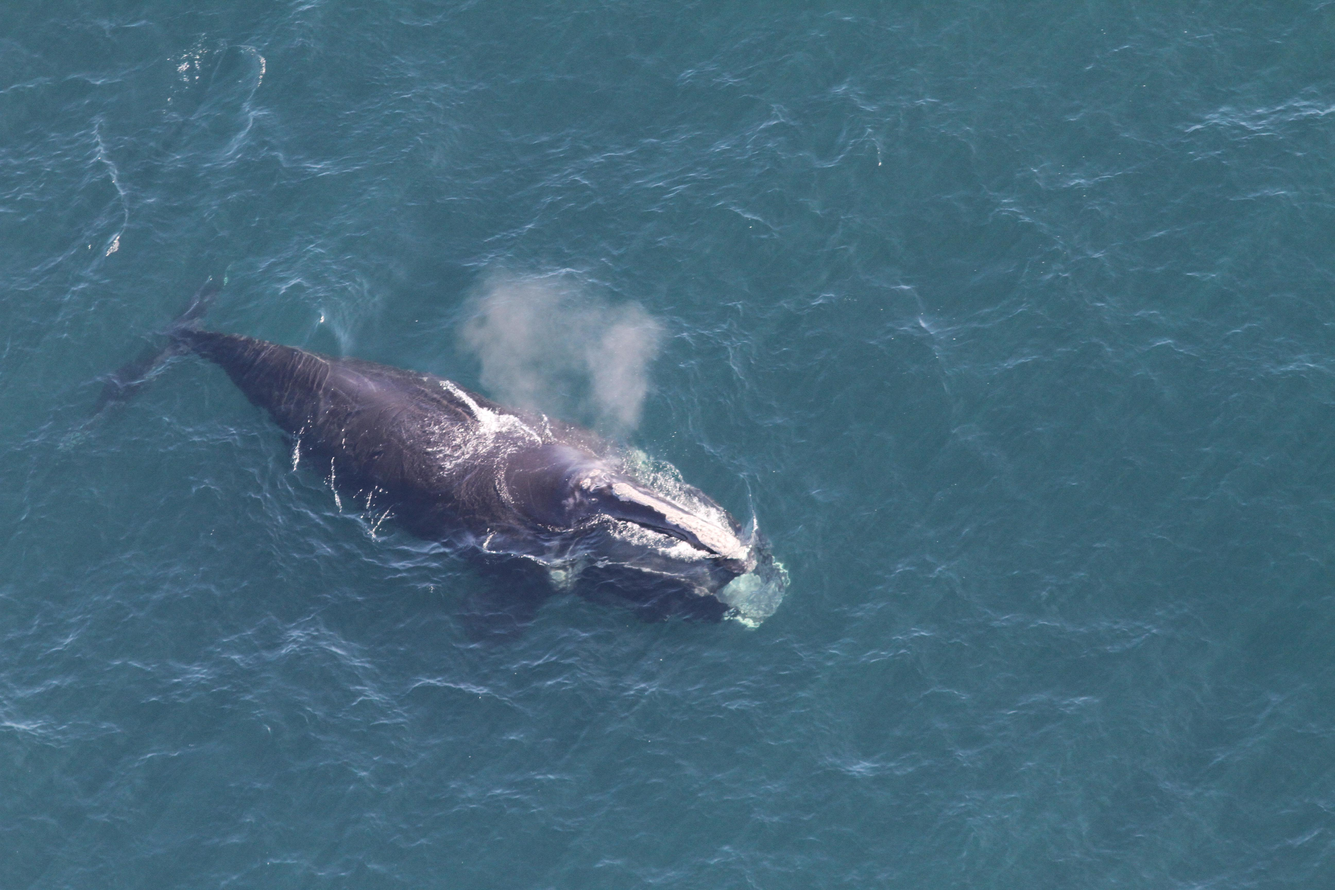whale: (85, 245, 798, 668)
